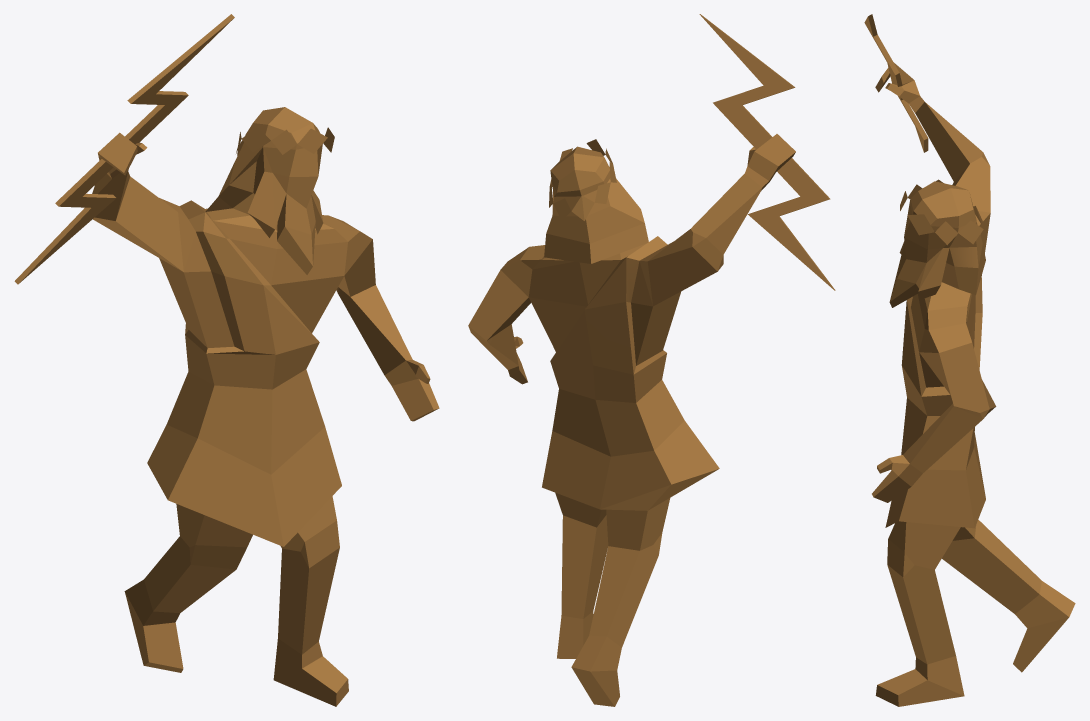
File: SM_Statue_Big_Zeus_Empire.fbx
3 views of the same model, side by side, from view 1: azimuth 30°, elevation 25°; view 2: azimuth 150°, elevation 25°; view 3: azimuth 270°, elevation 25° (orthographic). The views are drawn at different scales.
Visible parts, largest first — view 1: SM_Statue_Big_Zeus_Empire; view 2: SM_Statue_Big_Zeus_Empire; view 3: SM_Statue_Big_Zeus_Empire.
Part boxes in pixels (x1,y1,x2,y2): SM_Statue_Big_Zeus_Empire: (14,14,439,706); SM_Statue_Big_Zeus_Empire: (468,14,835,706); SM_Statue_Big_Zeus_Empire: (864,14,1075,706).
Bounding box in the file's own units: 5.16 × 9.12 × 2.71.
